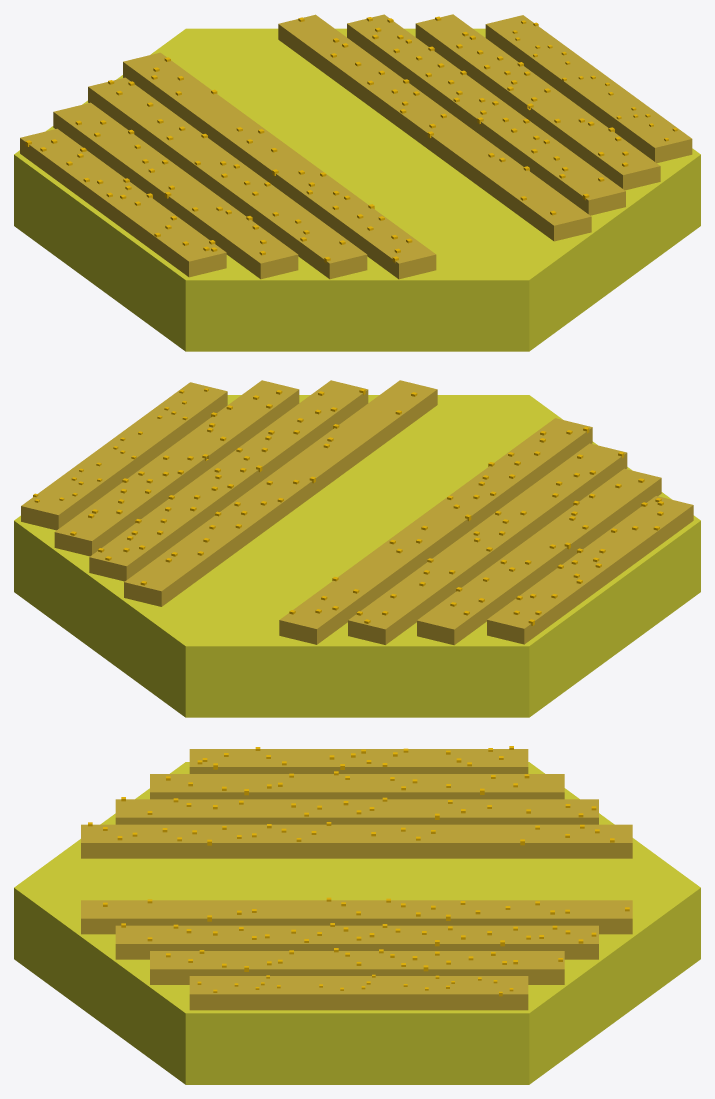
Rendered from Tuile_Champ_N3.fbx.
3 renders of one model, top to bottom at view 1: azimuth 30°, elevation 25°; view 2: azimuth 150°, elevation 25°; view 3: azimuth 270°, elevation 25°, orthographic.
Visible parts, largest first — view 1: nIV3, Circle; view 2: nIV3, Circle; view 3: nIV3, Circle.
Part boxes in pixels (left/top/right/bottom): nIV3: left=20, top=14, right=692, bottom=279; Circle: left=14, top=28, right=700, bottom=351; nIV3: left=21, top=380, right=693, bottom=645; Circle: left=14, top=395, right=700, bottom=717; nIV3: left=81, top=746, right=632, bottom=1010; Circle: left=14, top=762, right=700, bottom=1084.
Bounding box in the file's own units: 107 × 17.76 × 124.
